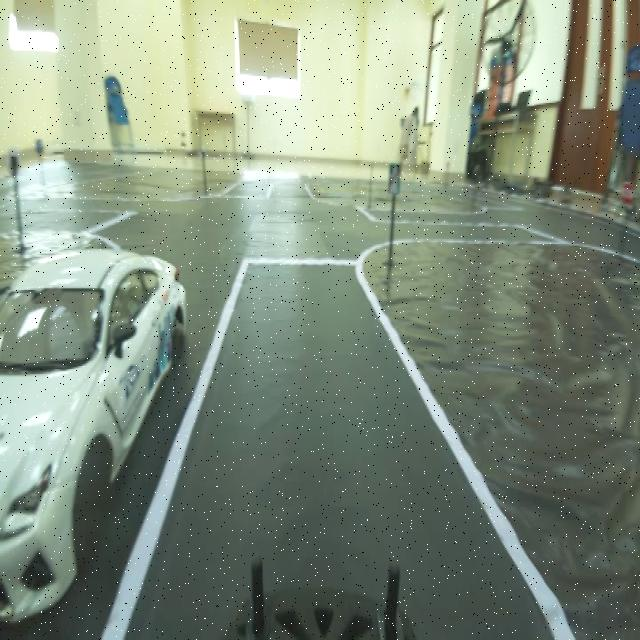car: (4, 136, 197, 618)
highway_exit: (383, 156, 412, 210)
